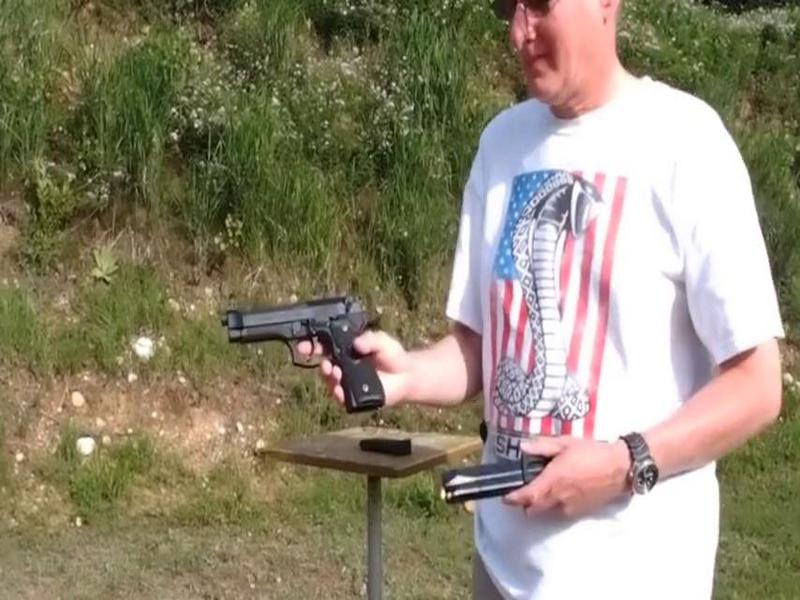Pistola: (212, 285, 392, 417)
